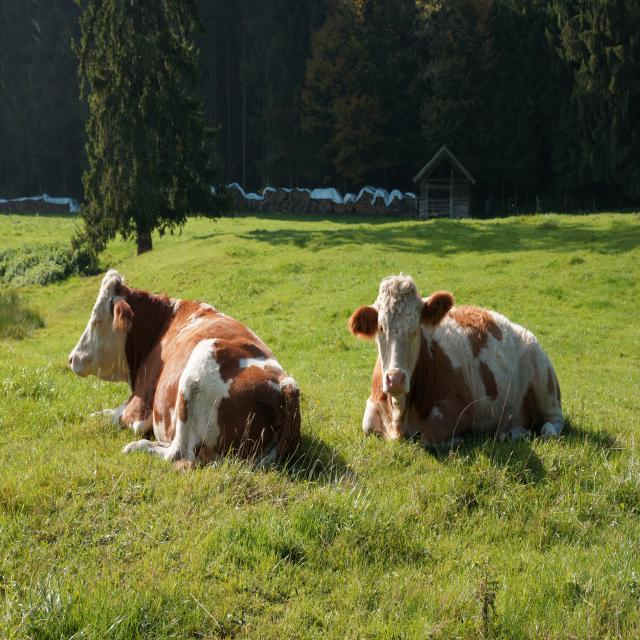cow: (69, 269, 301, 464), (348, 274, 564, 447)
